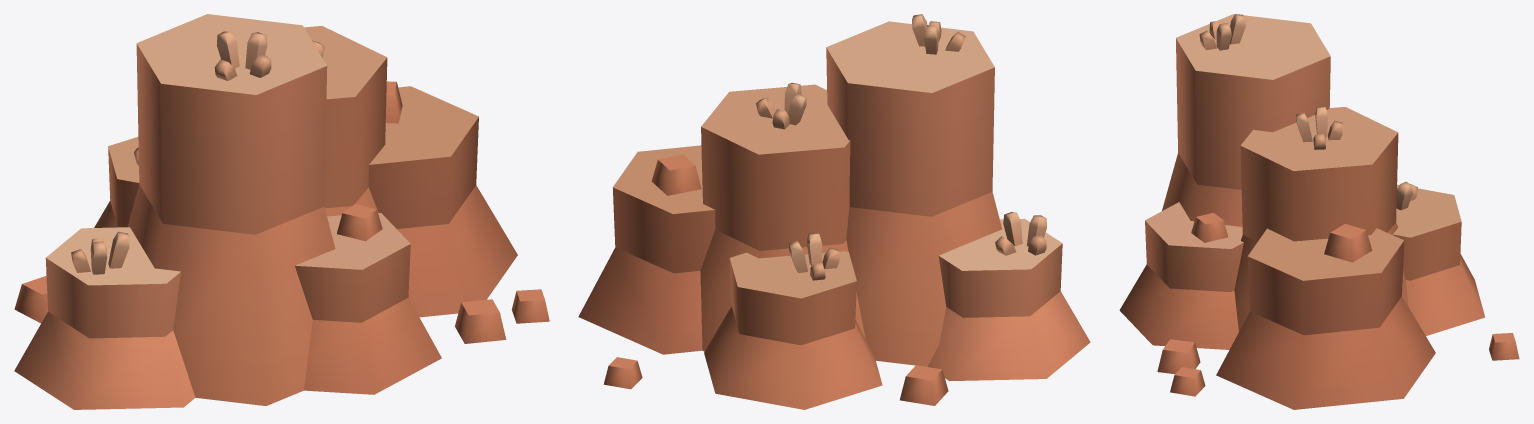
File: kenney-pirate-kit-rocks-sand-a.glb
3 views of the same model, side by side, from view 1: azimuth 30°, elevation 25°; view 2: azimuth 150°, elevation 25°; view 3: azimuth 270°, elevation 25° (orthographic). The views are drawn at different scales.
Parts seen in each view (by area): view 1: rocks-sand-a; view 2: rocks-sand-a; view 3: rocks-sand-a.
Part boxes in pixels (x1,y1,x2,y2): rocks-sand-a: [14, 14, 549, 409]; rocks-sand-a: [578, 14, 1090, 409]; rocks-sand-a: [1119, 14, 1519, 409].
Bounding box in the file's own units: 3 × 1.88 × 2.57.
Materials: 1 (1 with a texture image).
